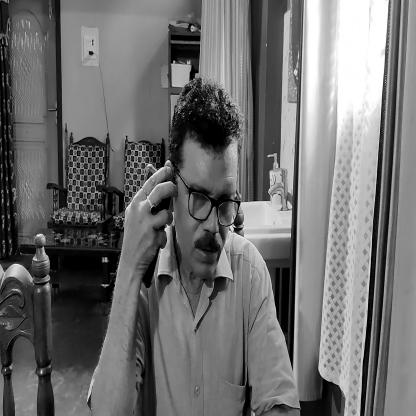Distracted: (167, 60, 241, 298)
